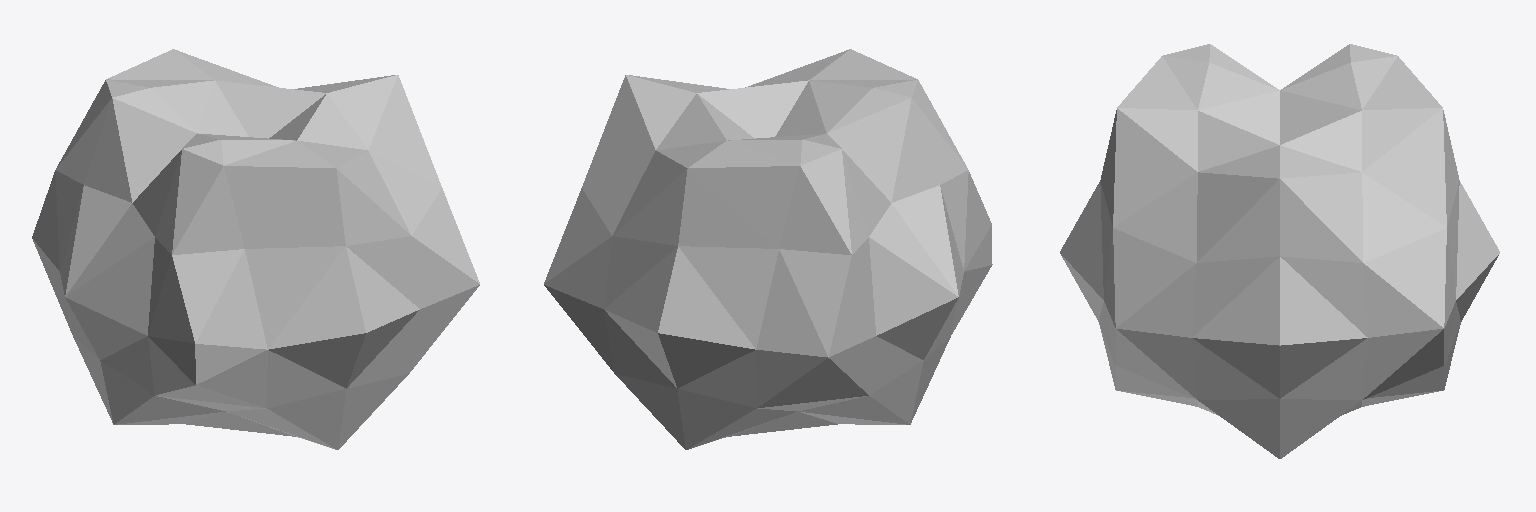
File: SuprGunAmmo_LOD0.obj
3 views of the same model, side by side, from view 1: azimuth 30°, elevation 25°; view 2: azimuth 150°, elevation 25°; view 3: azimuth 270°, elevation 25° (orthographic).
Parts seen in each view (by area): view 1: Cube_Cube.001; view 2: Cube_Cube.001; view 3: Cube_Cube.001.
Part boxes in pixels (left/top/right/bottom): Cube_Cube.001: left=32, top=49, right=479, bottom=449; Cube_Cube.001: left=544, top=49, right=992, bottom=449; Cube_Cube.001: left=1060, top=44, right=1499, bottom=458.
Bounding box in the file's own units: 1.05 × 0.8412 × 1.05.